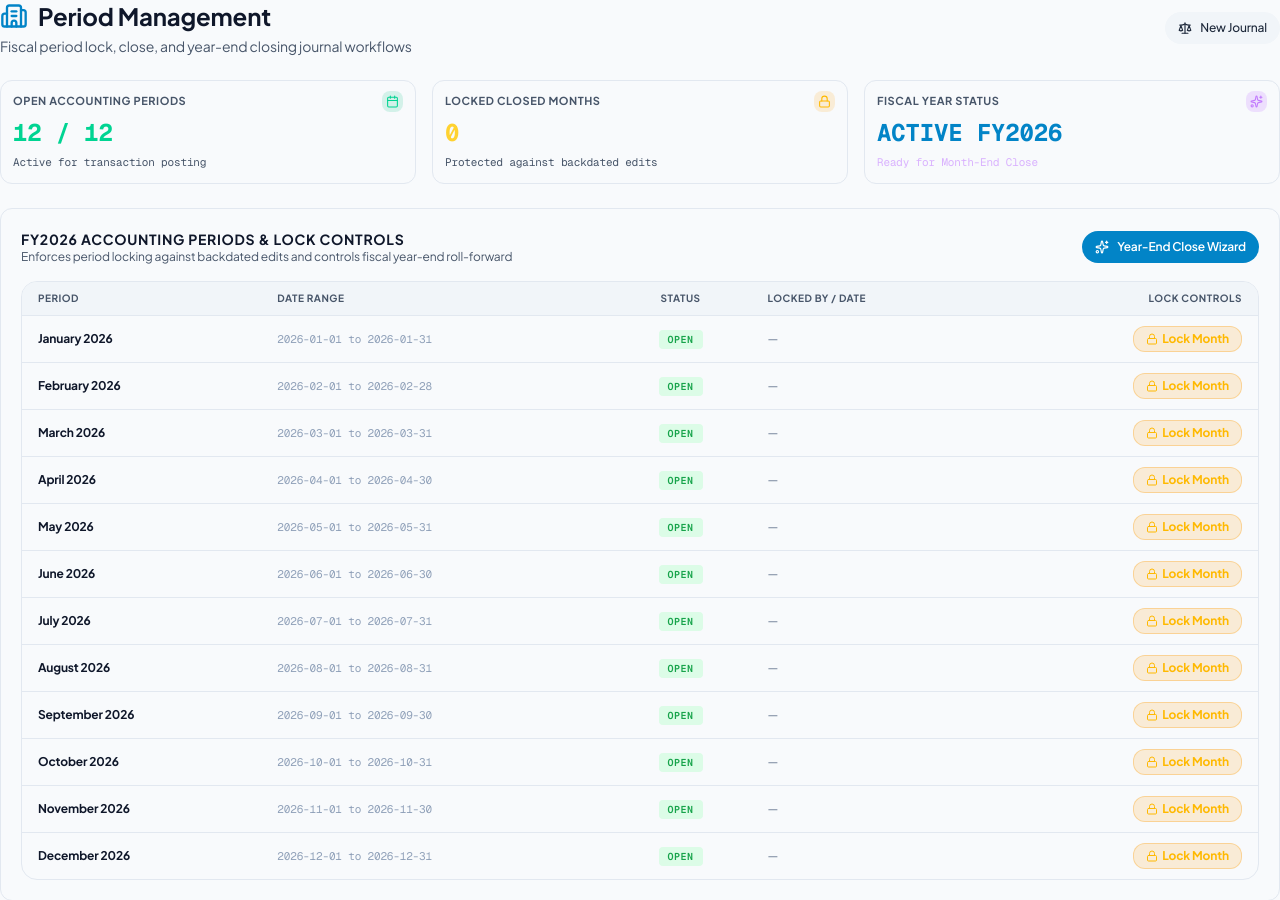
Test: SERP-295: Accounting Period Lock & Year-End Close UI › locks a period and unlocks via audited workflow
This screenshot has width=1280, height=900.
Note: Lock March 2026
Click the button with test id "lock-btn-period-2026-03": click(1188, 433) [1133, 420, 1242, 446]
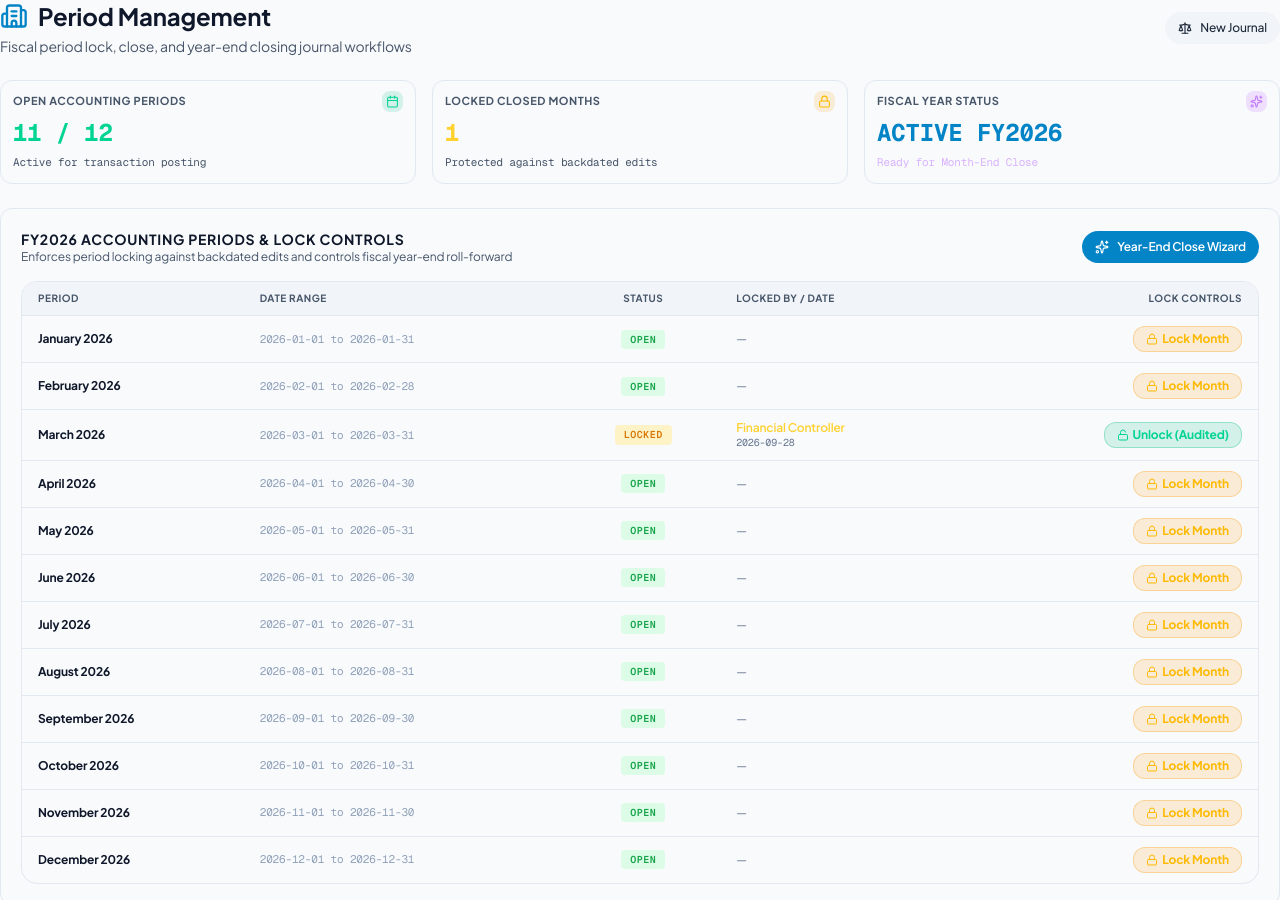
Result: the button with test id "unlock-btn-period-2026-03" is shown
Note: Click Unlock
Click the button with test id "unlock-btn-period-2026-03": click(1173, 435) [1104, 422, 1242, 448]
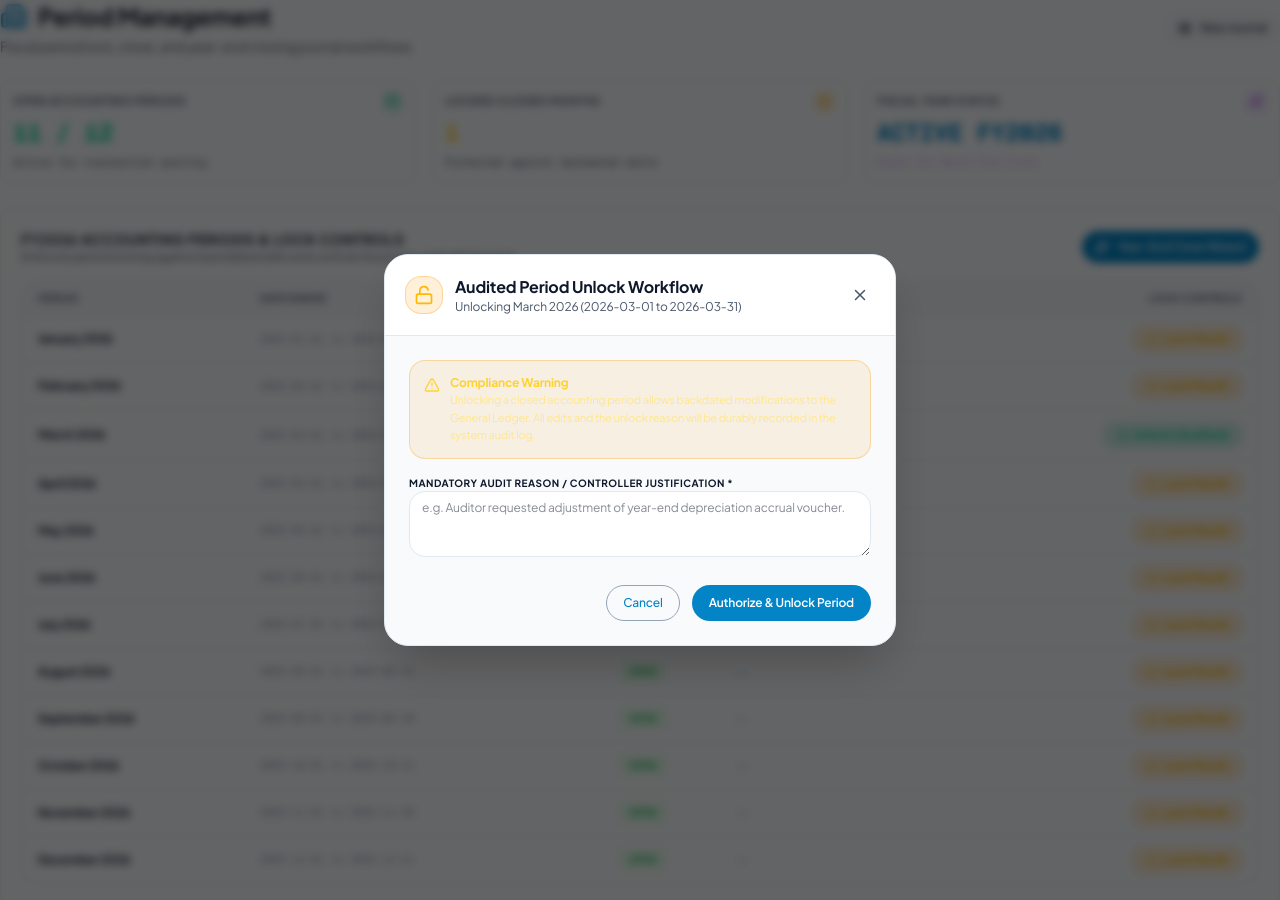
Result: the element with test id "unlock-period-modal" is shown
Result: the heading "Audited Period Unlock Workflow" is shown at [455, 275, 742, 299]
Note: Fill audit reason
Replace the text in the text box with placeholder "e.g. Auditor requested adjustment" with "Auditor requested adjustment of depreciation voucher.": (640, 524) [409, 491, 871, 557]
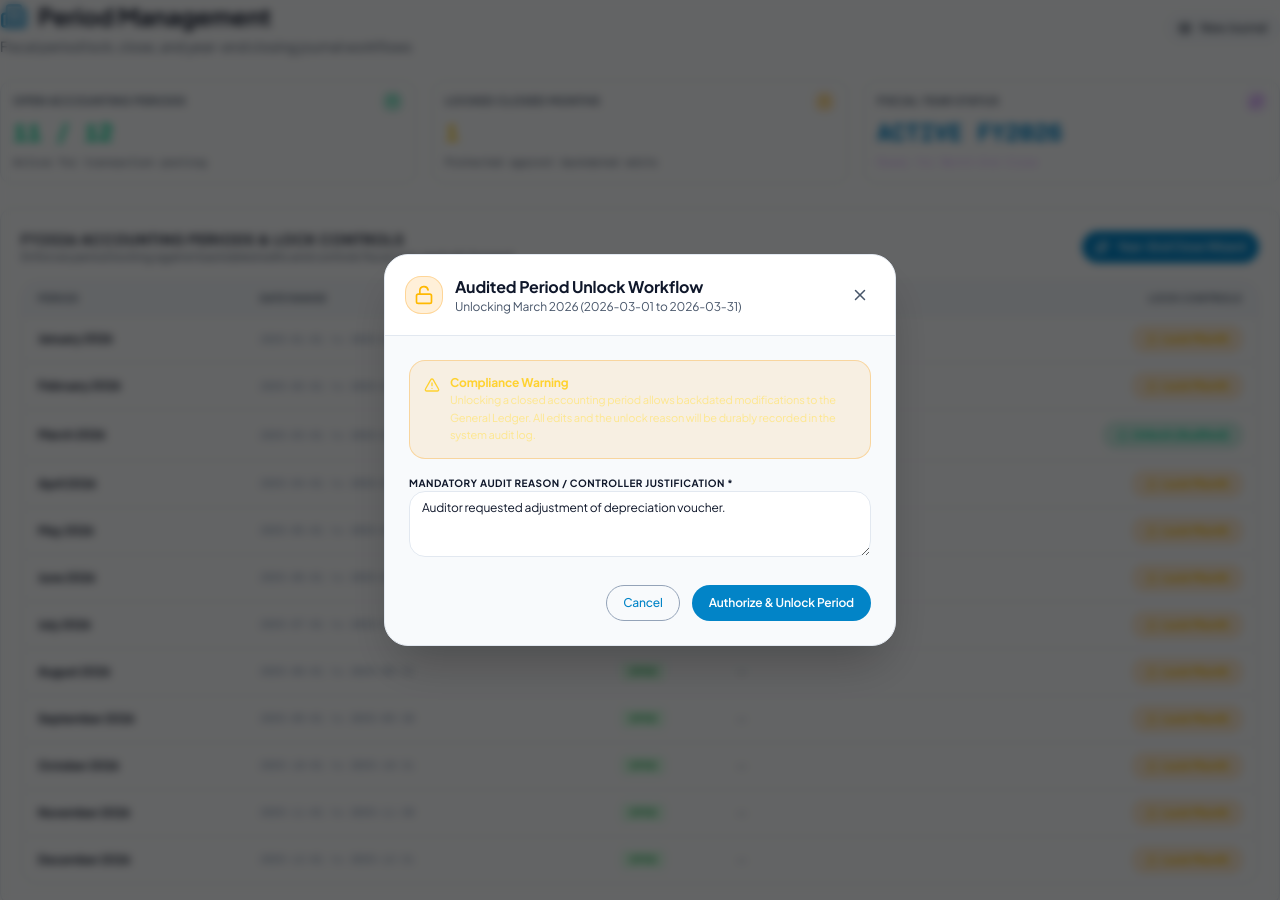
Note: Submit unlock
Click the button "Authorize & Unlock Period": click(781, 603) [692, 585, 871, 621]
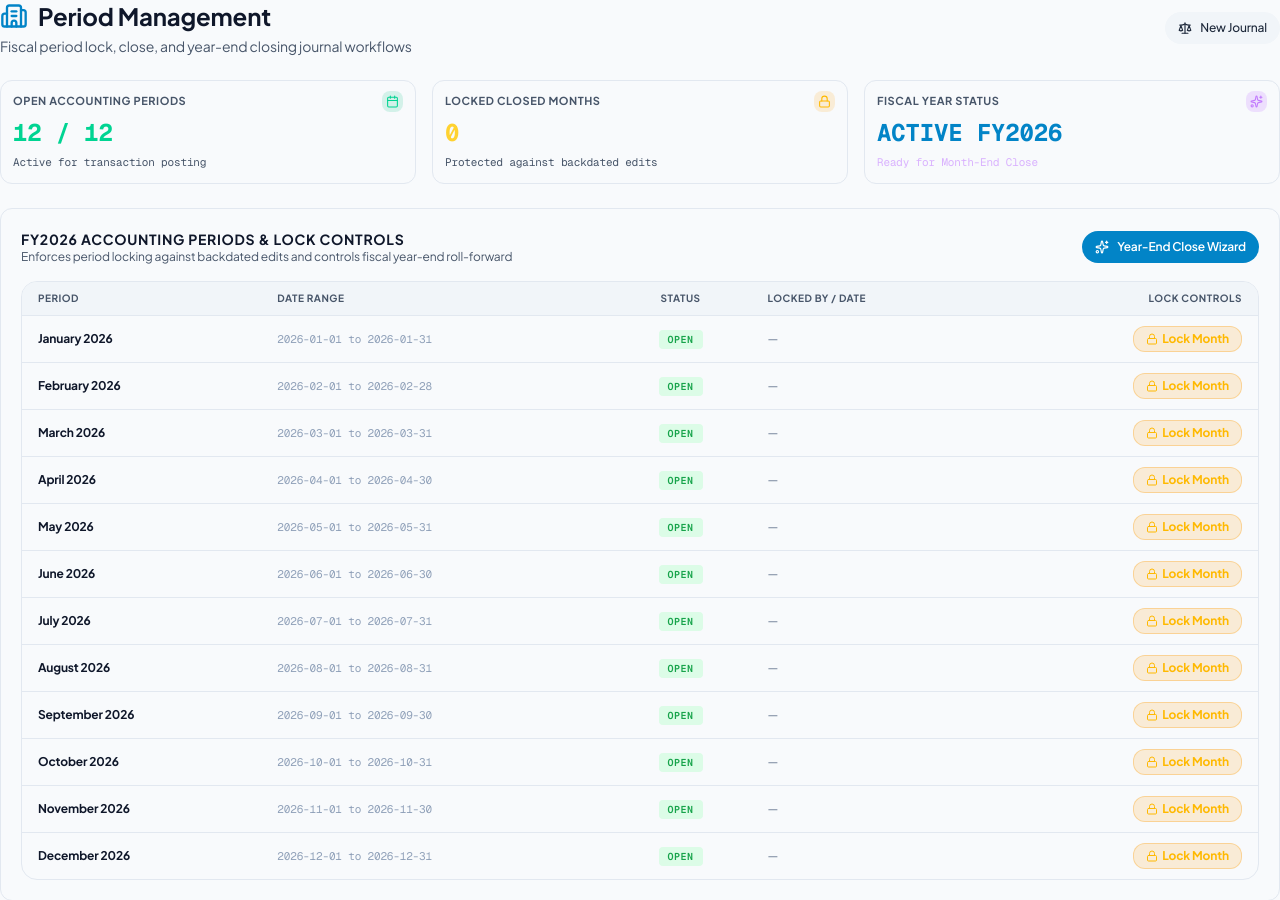
Result: the element with test id "unlock-period-modal" is gone
Result: the button with test id "lock-btn-period-2026-03" is shown at [1133, 420, 1242, 446]
